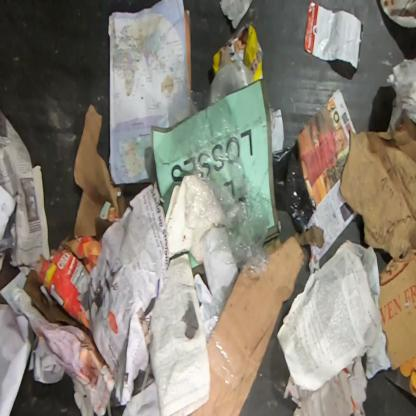cardboard: (187, 234, 307, 416), (339, 115, 415, 372), (72, 103, 150, 237), (22, 235, 102, 336), (283, 357, 369, 415), (212, 23, 264, 81), (385, 354, 415, 399)
rigid_plastic: (208, 60, 254, 95)
soft_plastic: (167, 86, 272, 292), (272, 139, 317, 233), (204, 294, 243, 390)
